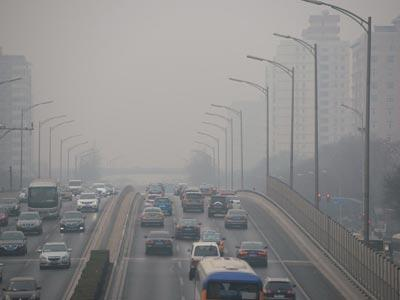bus: (195, 257, 264, 299), (28, 176, 62, 219)
car: (187, 241, 224, 280), (235, 239, 269, 268), (36, 242, 72, 269), (2, 277, 41, 299), (261, 277, 297, 300), (144, 231, 175, 257), (196, 230, 226, 256), (1, 230, 28, 256), (15, 212, 43, 235), (58, 211, 86, 233), (175, 218, 201, 239), (138, 206, 165, 225), (183, 192, 205, 213), (207, 195, 228, 217), (224, 209, 248, 228), (76, 193, 99, 212), (152, 197, 174, 216), (1, 197, 20, 217), (221, 194, 242, 212), (142, 192, 163, 209), (18, 187, 36, 201), (67, 180, 83, 195), (58, 187, 73, 201), (91, 182, 107, 195)
